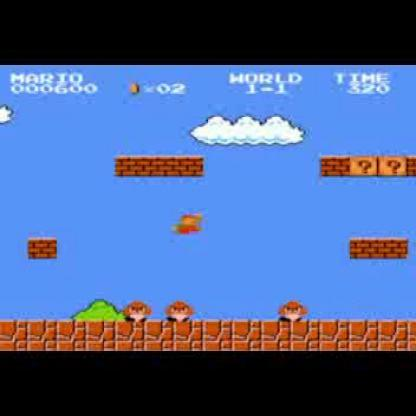Goomba: (274, 299, 308, 323), (126, 294, 152, 321), (167, 298, 194, 322)
